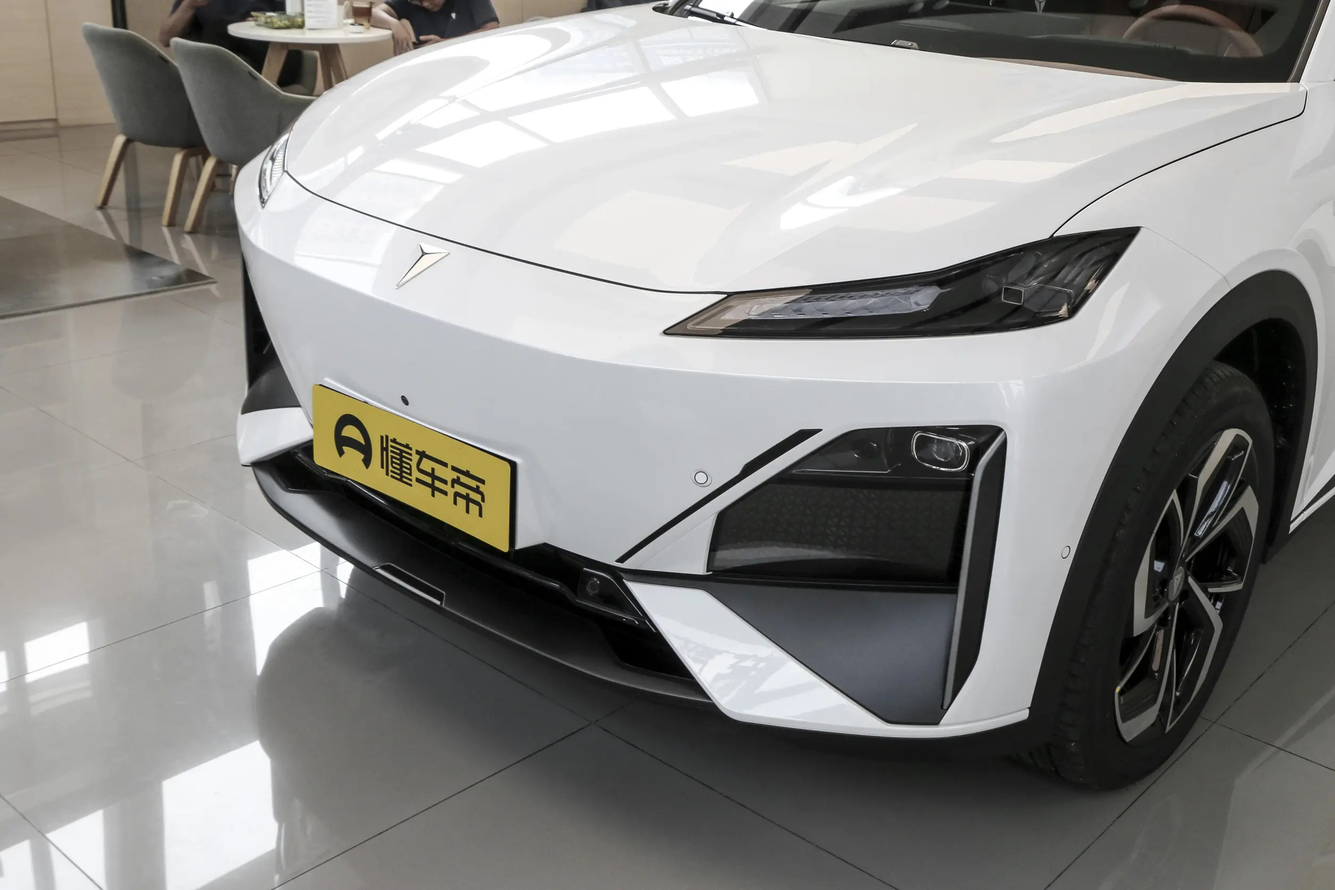Deepal: (395, 243, 450, 289)
